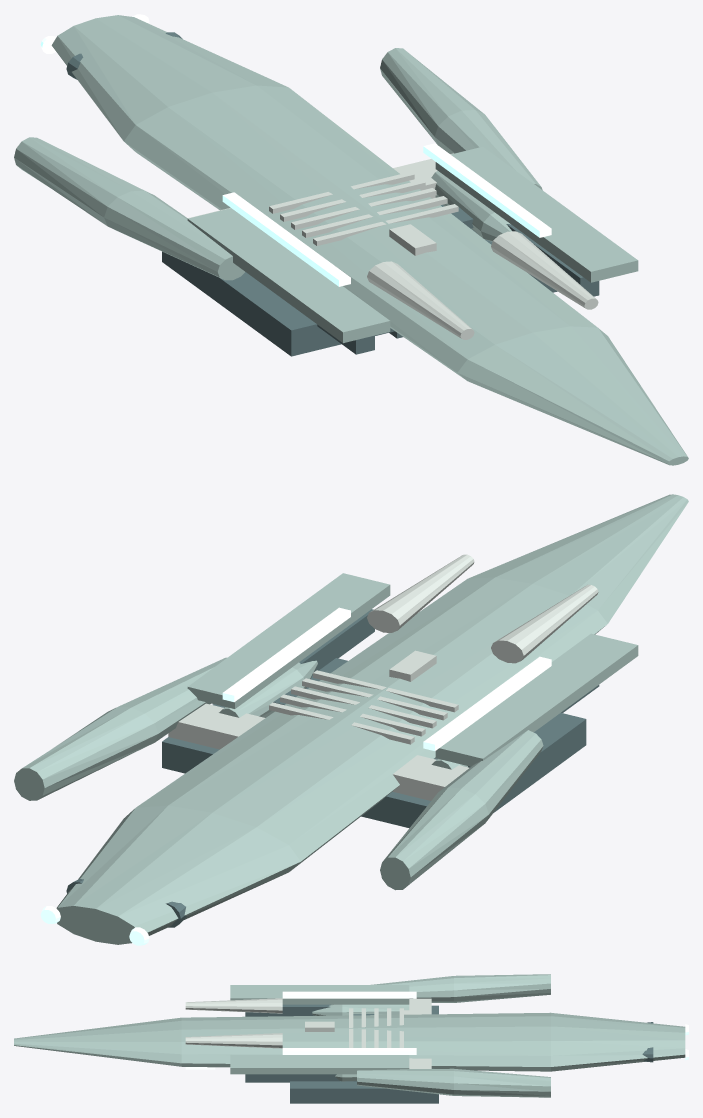
3 views of the same model, one above another, from view 1: azimuth 30°, elevation 25°; view 2: azimuth 150°, elevation 25°; view 3: azimuth 270°, elevation 25° (orthographic). The views are drawn at different scales.
Size of the model in its own units: 8 by 1.78 by 20.45.
